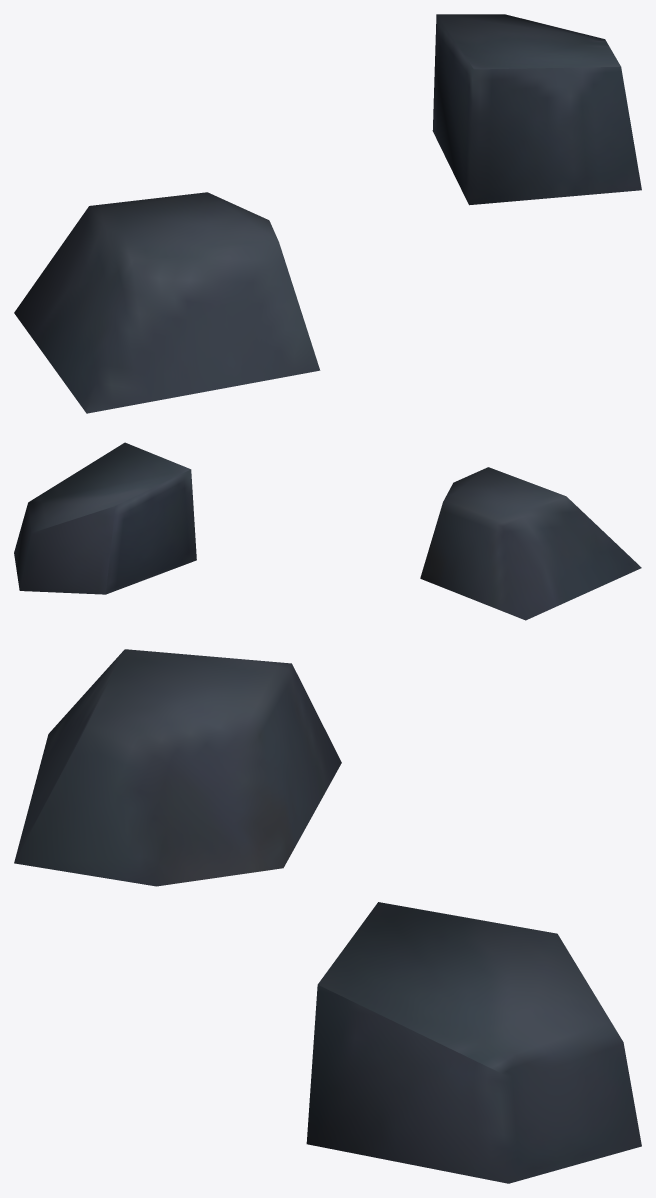
The model's file is Area_04_44.fbx.
The picture shows the model from 3 angles, top to bottom: view 1: azimuth 30°, elevation 25°; view 2: azimuth 150°, elevation 25°; view 3: azimuth 270°, elevation 25°; orthographic projection. The views are drawn at different scales.
Parts seen in each view (by area): view 1: Area_04_44; view 2: Area_04_44; view 3: Area_04_44.
Boxes of the visible parts, bbox=[...] form: Area_04_44: bbox=[14, 14, 641, 413]; Area_04_44: bbox=[14, 442, 641, 620]; Area_04_44: bbox=[14, 649, 641, 1183].
Bounding box in the file's own units: 1778 × 310 × 1097.
